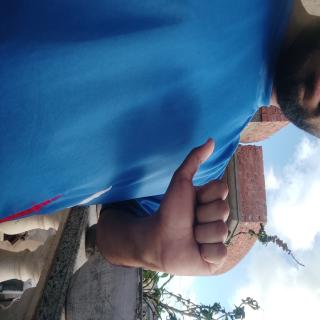DAD: (105, 103, 207, 229)
